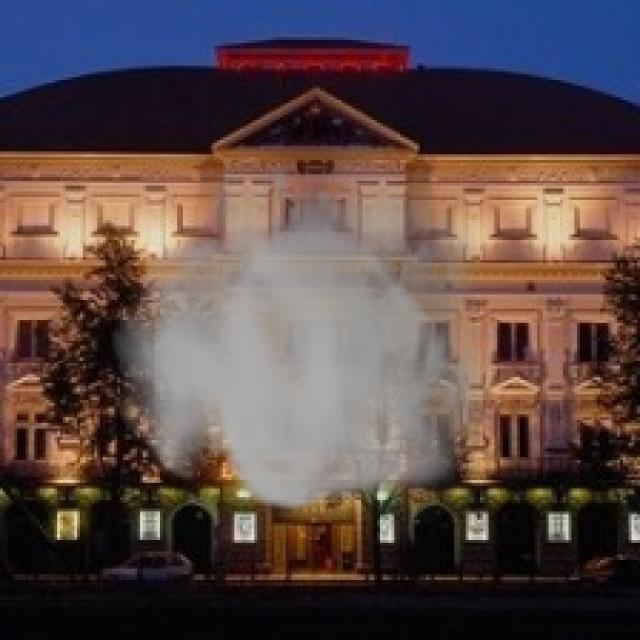Smoke: (111, 117, 506, 517)
